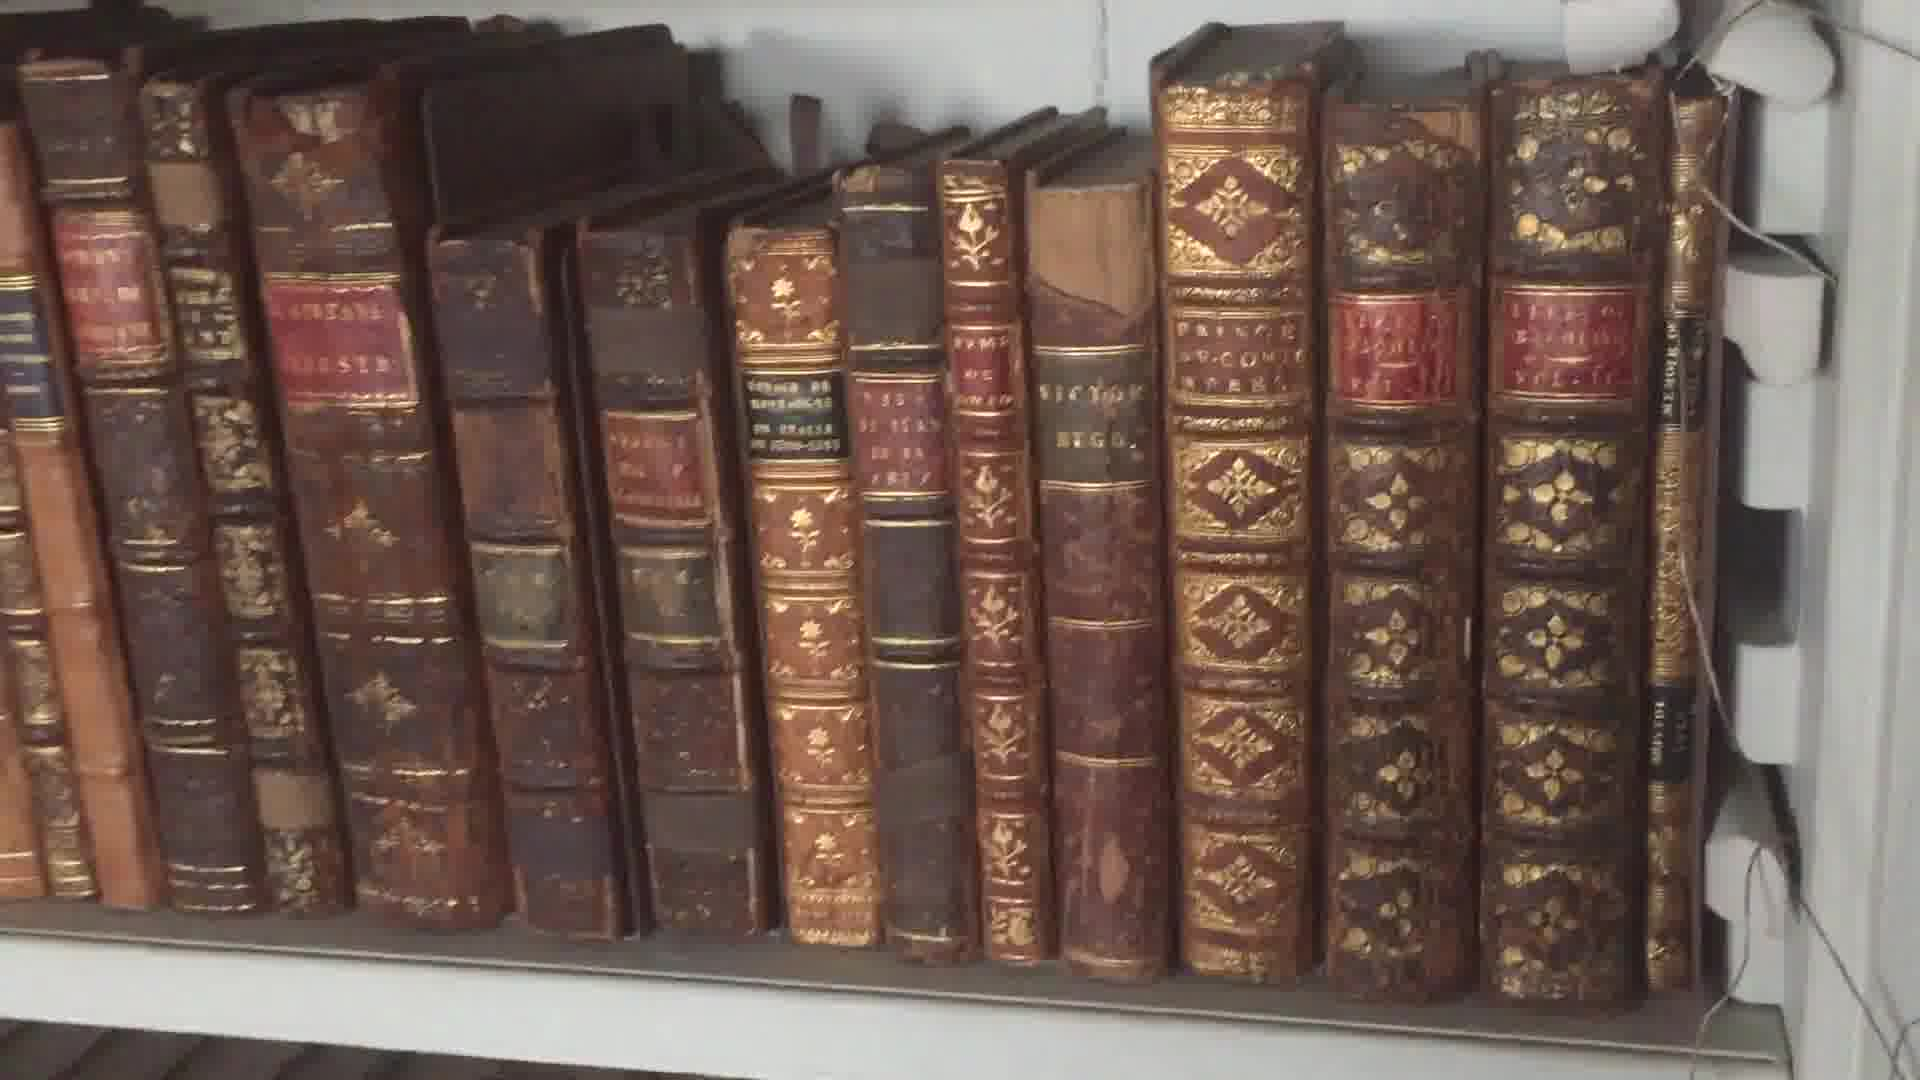Aa6-37: (124, 70, 336, 902)
Aa6-38: (214, 70, 502, 934)
Aa6-39_40: (419, 218, 787, 956)
Aa6-41: (702, 202, 880, 968)
Aa6-42: (819, 173, 980, 967)
Aa6-43: (934, 161, 1080, 982)
Aa6-44: (1002, 170, 1163, 992)
Aa6-45: (1158, 61, 1307, 1000)
Aa6-46-47: (1304, 100, 1648, 1051)
Aa6-48: (1636, 73, 1731, 1019)
